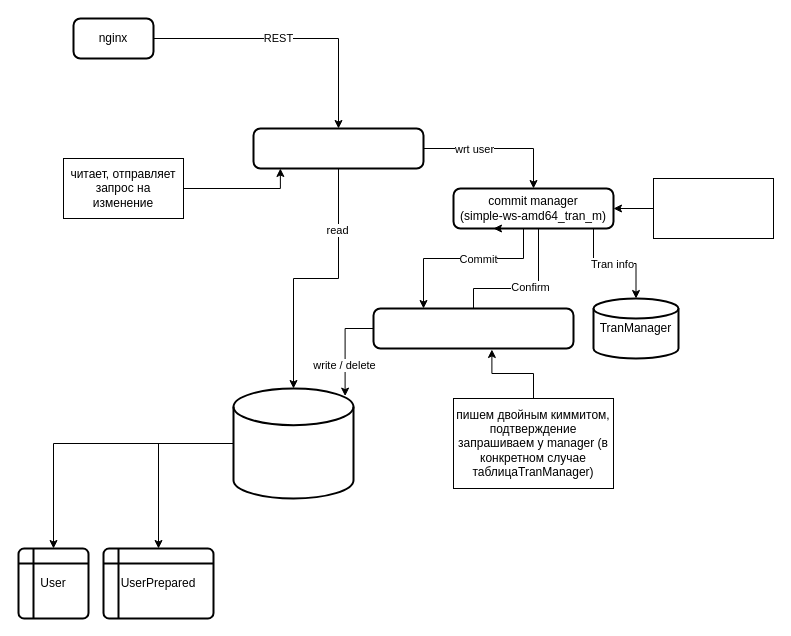
The diagram is 791 pixels wide and 636 high, and some of its shapes have lost their labels. Each missing label, with the centre of its shape:
app-simple-ws-r (simple-ws-amd64_r_tran_m): the point at 338,148
app-simple-ws-w (simple-ws-amd64_w_two_phase ): the point at 473,328
DB: the point at 293,443
принимает запрос на добавление, управляет общей транзакцией: the point at 713,208
